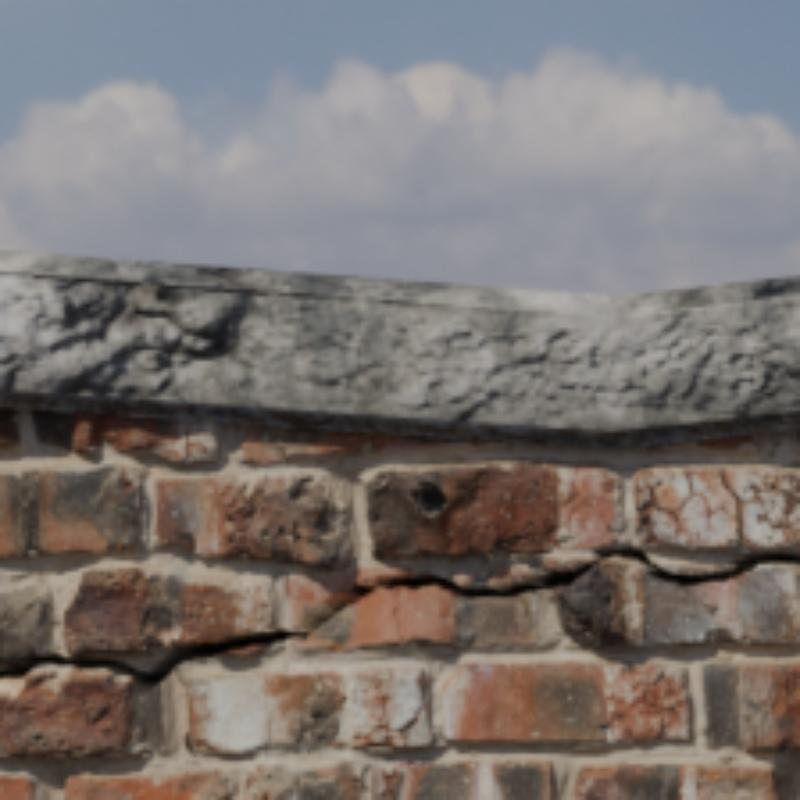crack: (4, 549, 800, 684), (718, 468, 743, 546)
